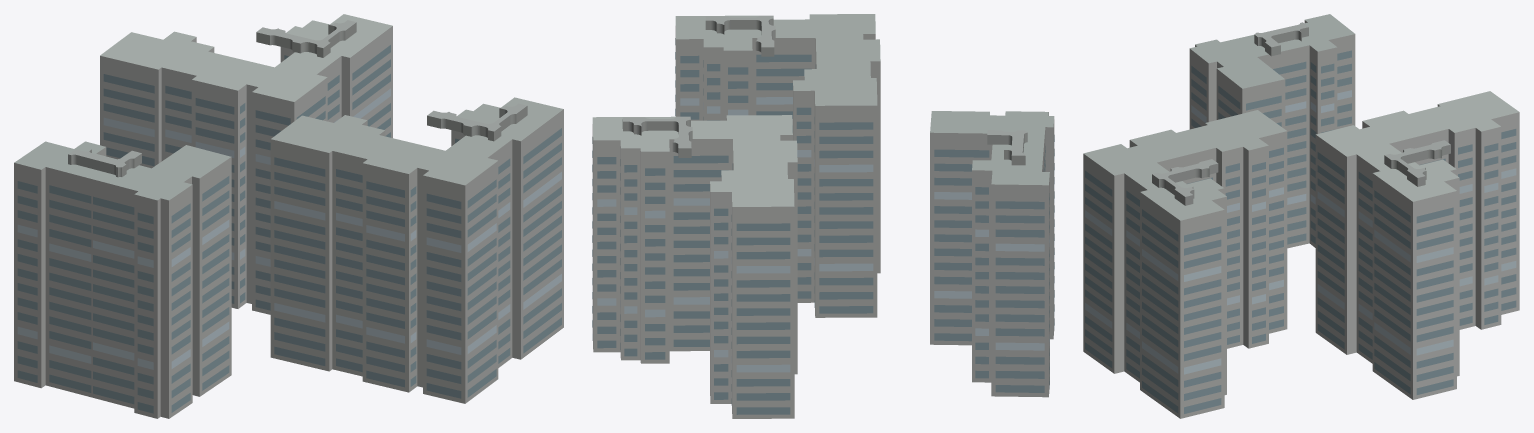
File: apt-a10025302.glb
3 views of the same model, side by side, from view 1: azimuth 30°, elevation 25°; view 2: azimuth 150°, elevation 25°; view 3: azimuth 270°, elevation 25° (orthographic). The views are drawn at different scales.
Visible parts, largest first — view 1: apt-a10025302; view 2: apt-a10025302; view 3: apt-a10025302.
Boxes of the visible parts, x1,y1,x2,y2 form: apt-a10025302: (14, 14, 563, 418); apt-a10025302: (592, 14, 1054, 418); apt-a10025302: (1083, 14, 1519, 418).
Size of the model in its own units: 102 by 47.81 by 91.34.
